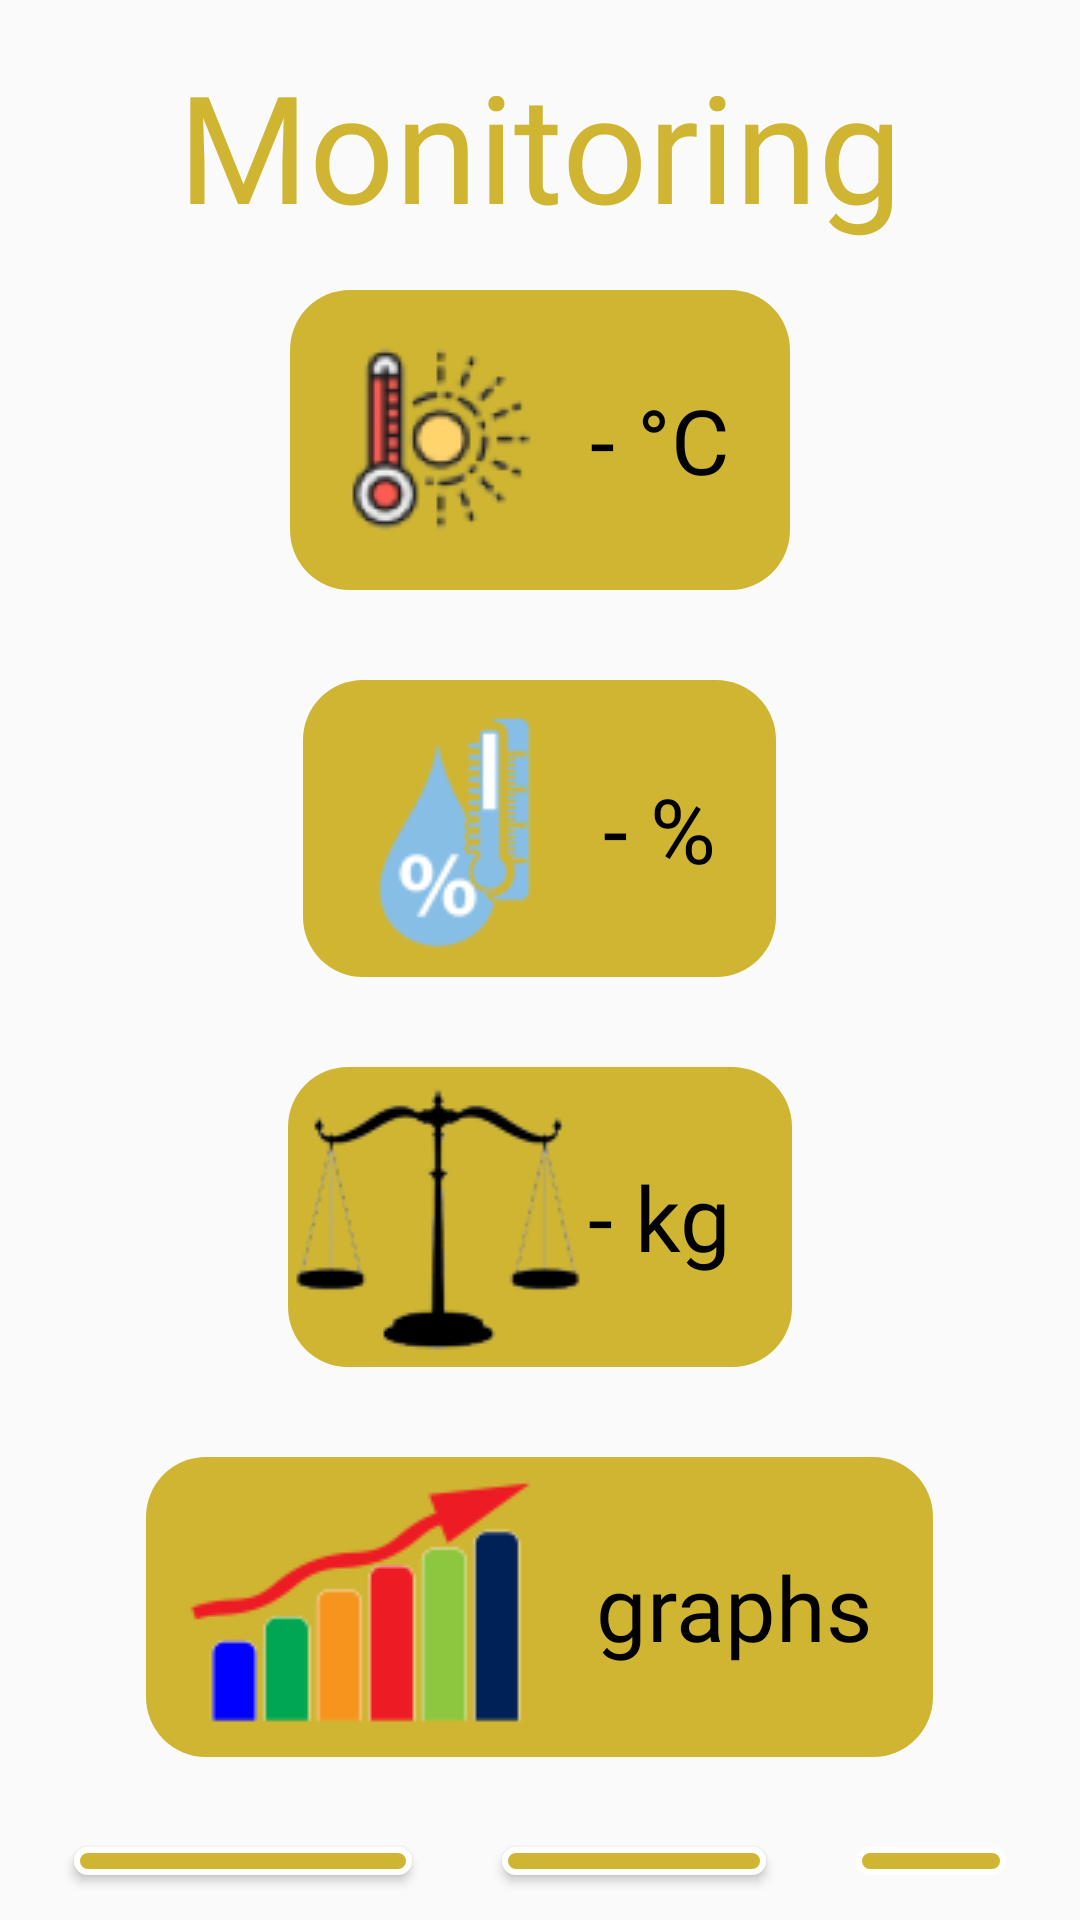

Screen size 1080×1920. Icon name, then its center in pixels as [x,y]:
humidity: [453,828]
weather: [440,440]
weight: [438,1217]
